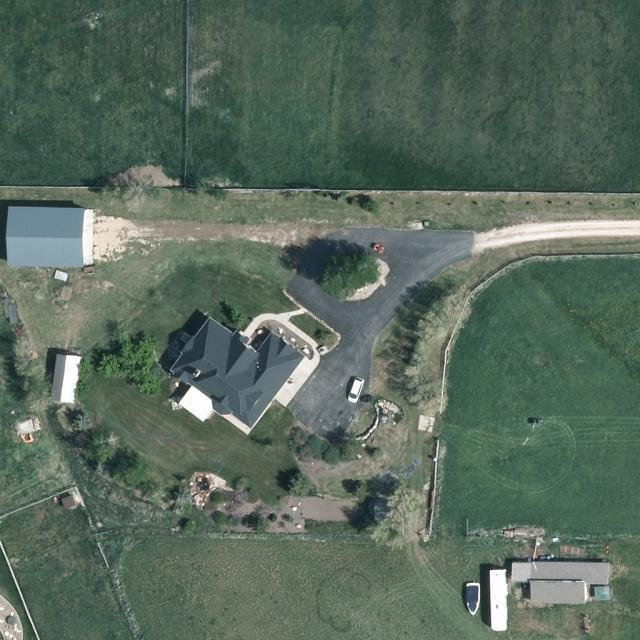vehicle: (346, 378, 368, 404)
